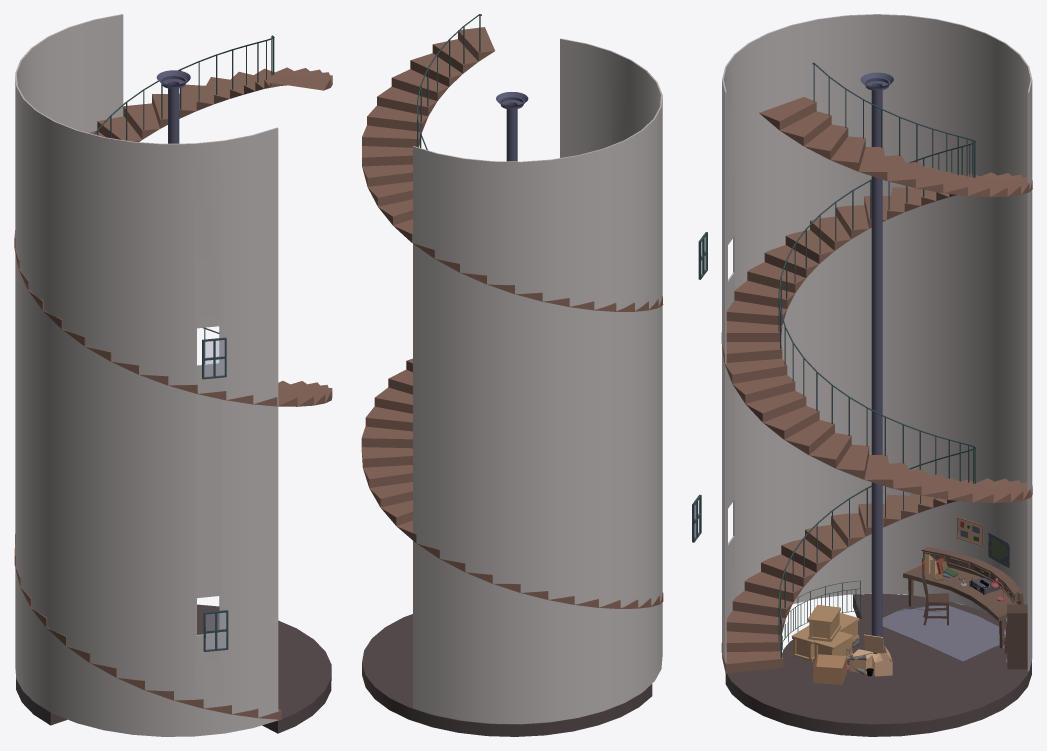
The model's file is BigStairs 1.fbx.
3 views of the same model, side by side, from view 1: azimuth 30°, elevation 25°; view 2: azimuth 150°, elevation 25°; view 3: azimuth 270°, elevation 25° (orthographic). The views are drawn at different scales.
Visible parts, largest first — view 1: wallStairs, Stairs.002, floorStairs, pole, window.006, window.007; view 2: wallStairs, Stairs.002, floorStairs, pole; view 3: wallStairs, Stairs.002, floorStairs, pole, carpetBlue, Desk, joinedWoodenBoxes, joinedObjects, Plane.003, fileCabinet, fenceStairs, chair (+2 smaller).
Boxes of the visible parts, left/top/right/bottom form: wallStairs: left=15, top=14, right=278, bottom=736; Stairs.002: left=14, top=38, right=332, bottom=719; floorStairs: left=16, top=604, right=331, bottom=733; pole: left=156, top=70, right=190, bottom=143; window.006: left=203, top=610, right=228, bottom=651; window.007: left=202, top=337, right=226, bottom=379; wallStairs: left=413, top=38, right=662, bottom=724; Stairs.002: left=361, top=15, right=663, bottom=608; floorStairs: left=362, top=614, right=652, bottom=736; pole: left=496, top=92, right=528, bottom=161; wallStairs: left=722, top=14, right=1032, bottom=671; Stairs.002: left=721, top=64, right=1032, bottom=673; floorStairs: left=725, top=593, right=1031, bottom=736; pole: left=860, top=72, right=893, bottom=636; carpetBlue: left=882, top=605, right=1005, bottom=661; Desk: left=903, top=547, right=1023, bottom=648; joinedWoodenBoxes: left=791, top=604, right=859, bottom=661; joinedObjects: left=813, top=634, right=892, bottom=684; Plane.003: left=778, top=62, right=975, bottom=621; fileCabinet: left=1003, top=604, right=1027, bottom=669; fenceStairs: left=782, top=580, right=860, bottom=649; chair: left=921, top=571, right=949, bottom=625.
Size of the model in its own units: 700 by 1591 by 768.
